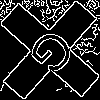G: (25, 25, 86, 85)
